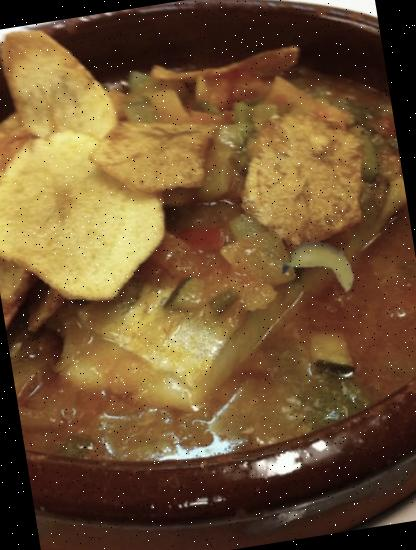Banana: (282, 231, 362, 311)
